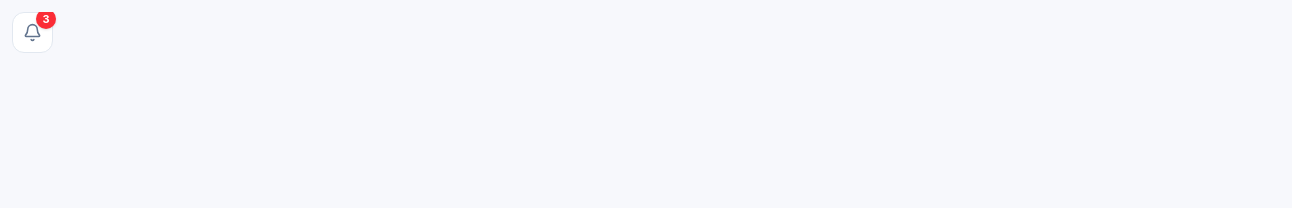
Phase 6 Frontend Components › NotificationsDropdown Component › renders bell and displays unread badge count
The width and height of the screenshot is (1292, 208).
Click bell to toggle dropdown open
Click the button named "notifications": (32, 32) left=12, top=12, right=53, bottom=53
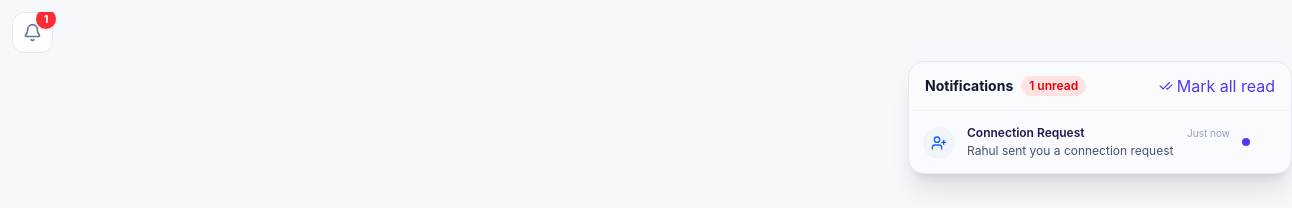
expect the text "Rahul sent you a connection request" is shown: met, box left=967, top=143, right=1174, bottom=158
